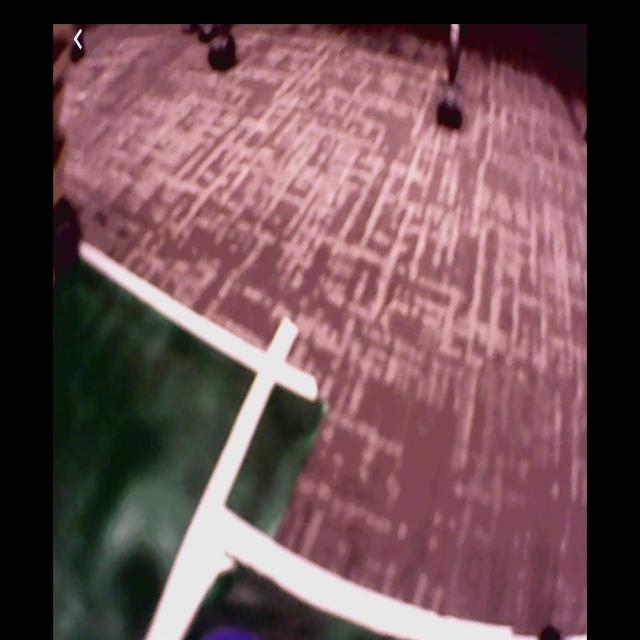ball: (201, 611, 261, 640)
